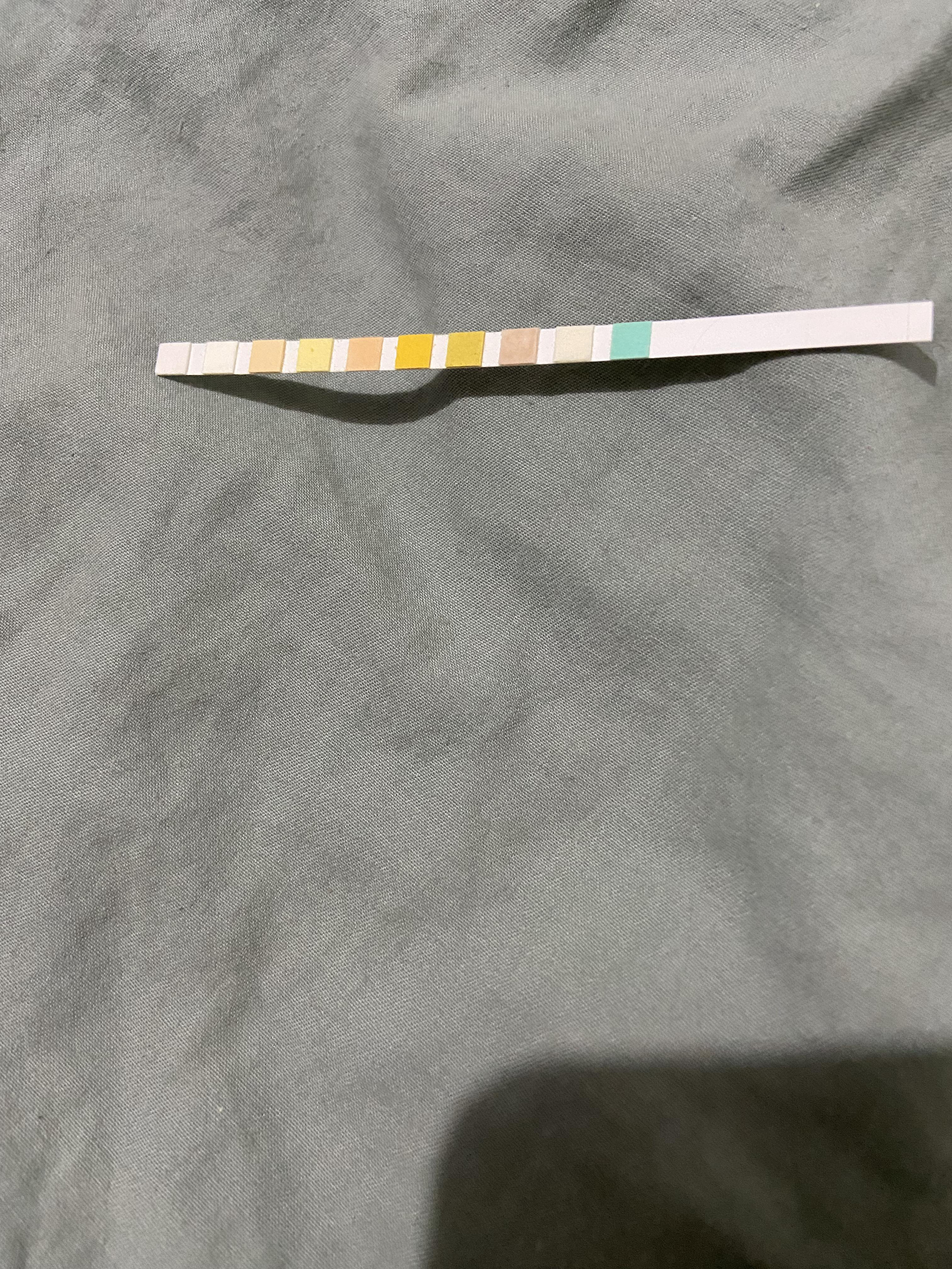Bilirubin: (558, 332, 589, 359)
Blood: (400, 338, 427, 366)
Glucose: (614, 327, 647, 355)
Ketone: (503, 334, 534, 361)
Leukocytes: (161, 346, 185, 371)
Nitrite: (208, 347, 231, 370)
Protein: (301, 344, 327, 369)
SpGravity: (451, 337, 480, 363)
Urobilinogen: (254, 344, 280, 368)
pH: (351, 341, 376, 367)
strip: (155, 302, 932, 375)
